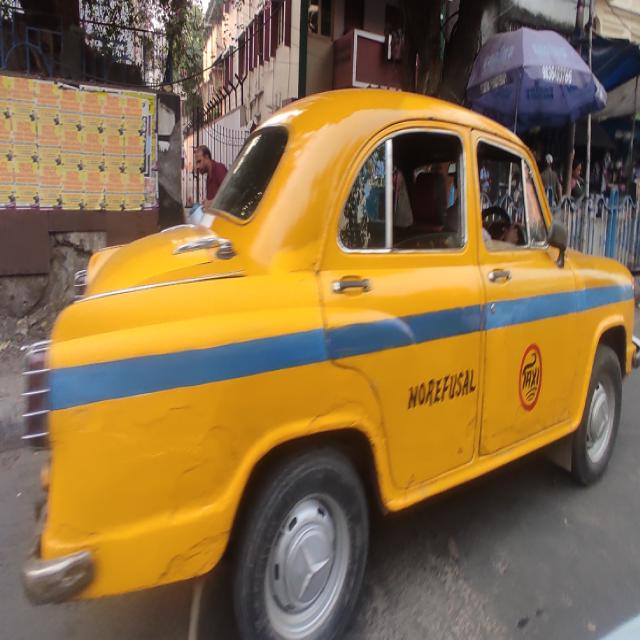ambasador_taxi: (16, 72, 637, 640)
